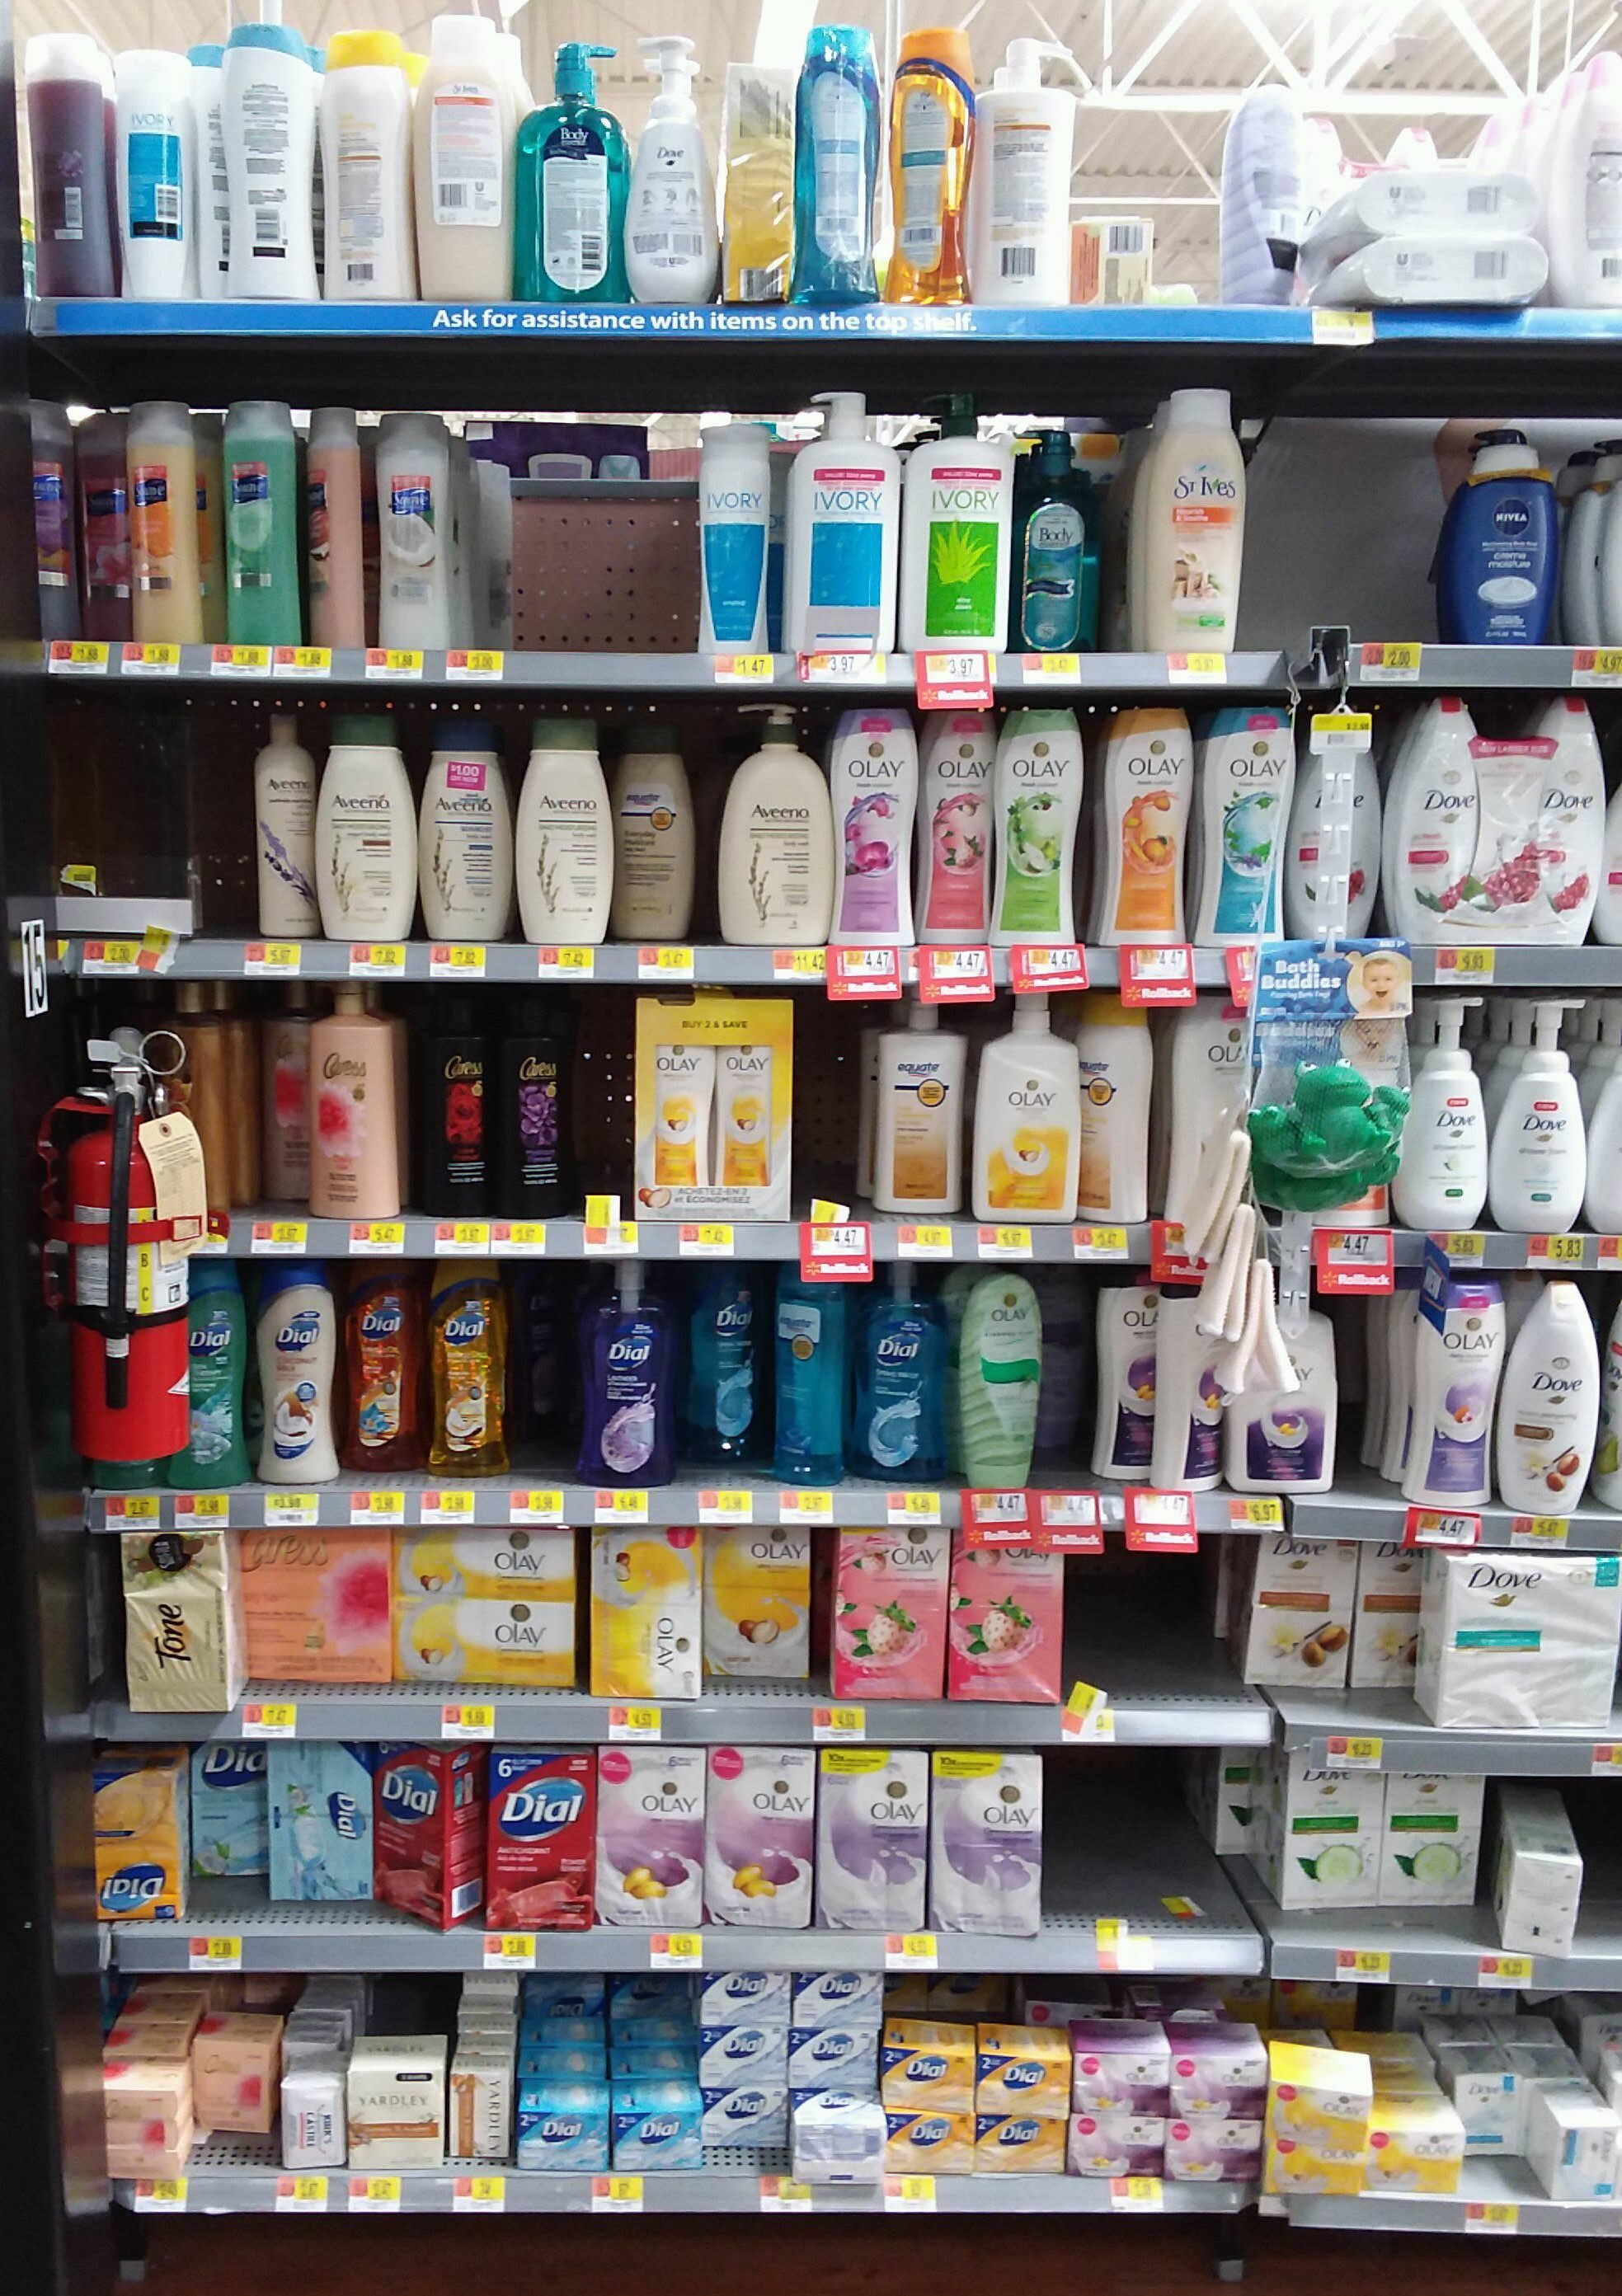empty: (509, 441, 686, 664), (1253, 441, 1411, 628), (1069, 1759, 1199, 1913), (1078, 1553, 1201, 1690), (790, 997, 860, 1223), (574, 999, 632, 1222), (527, 1292, 567, 1469)
misalignment: (377, 1731, 484, 1931), (1255, 2040, 1374, 2192), (1482, 1780, 1589, 1947)
